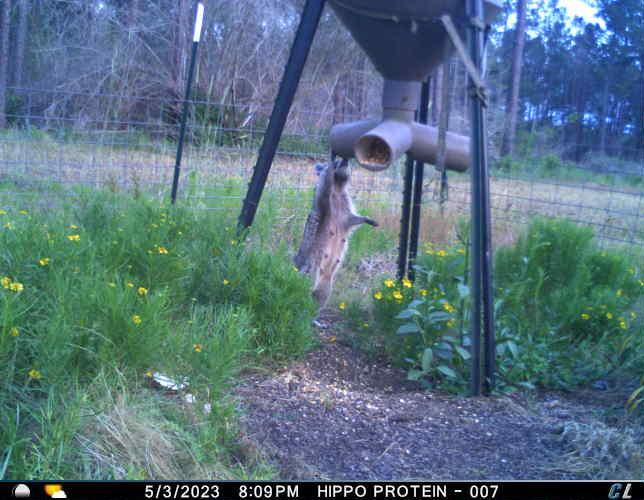Raccoon: (296, 151, 381, 331)
